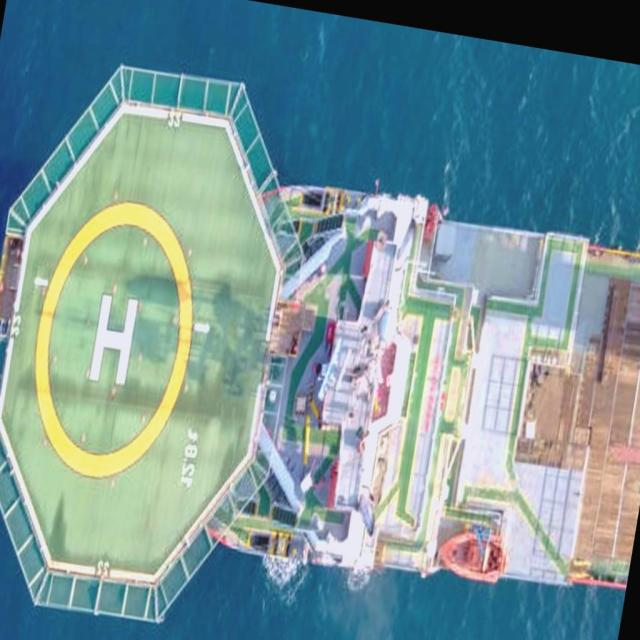helipad: (32, 195, 197, 480)
